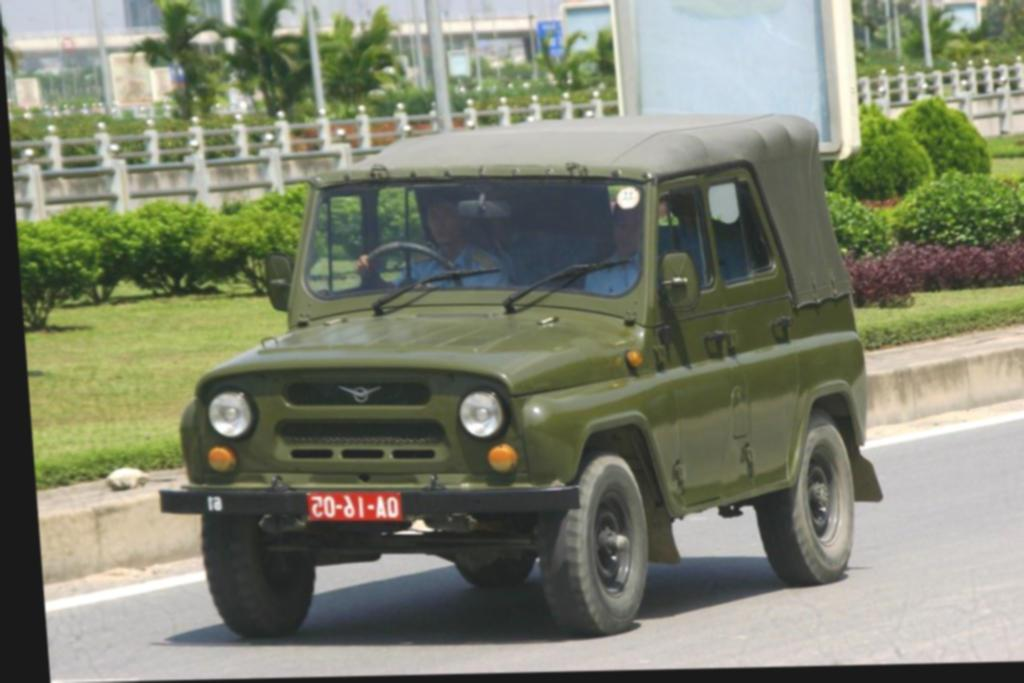License_Plate: (305, 489, 405, 526)
